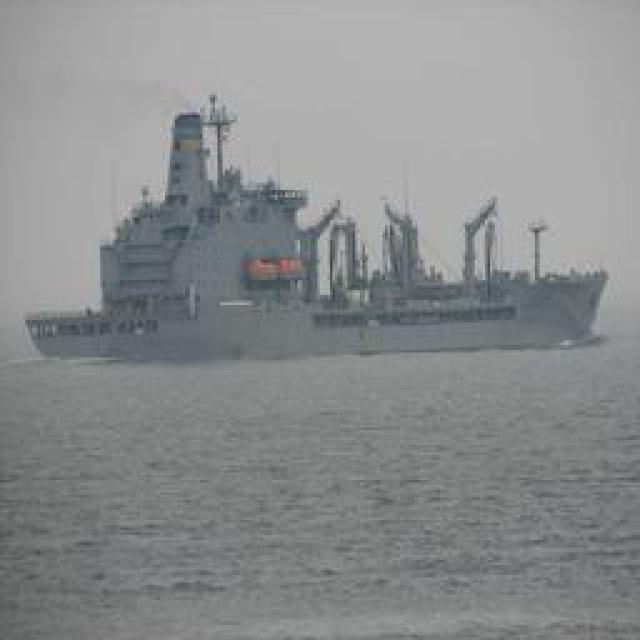Ship: (26, 98, 619, 373)
